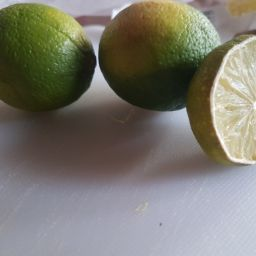Lemon: (81, 4, 256, 171), (104, 2, 217, 123), (1, 2, 99, 116), (204, 21, 256, 176)
